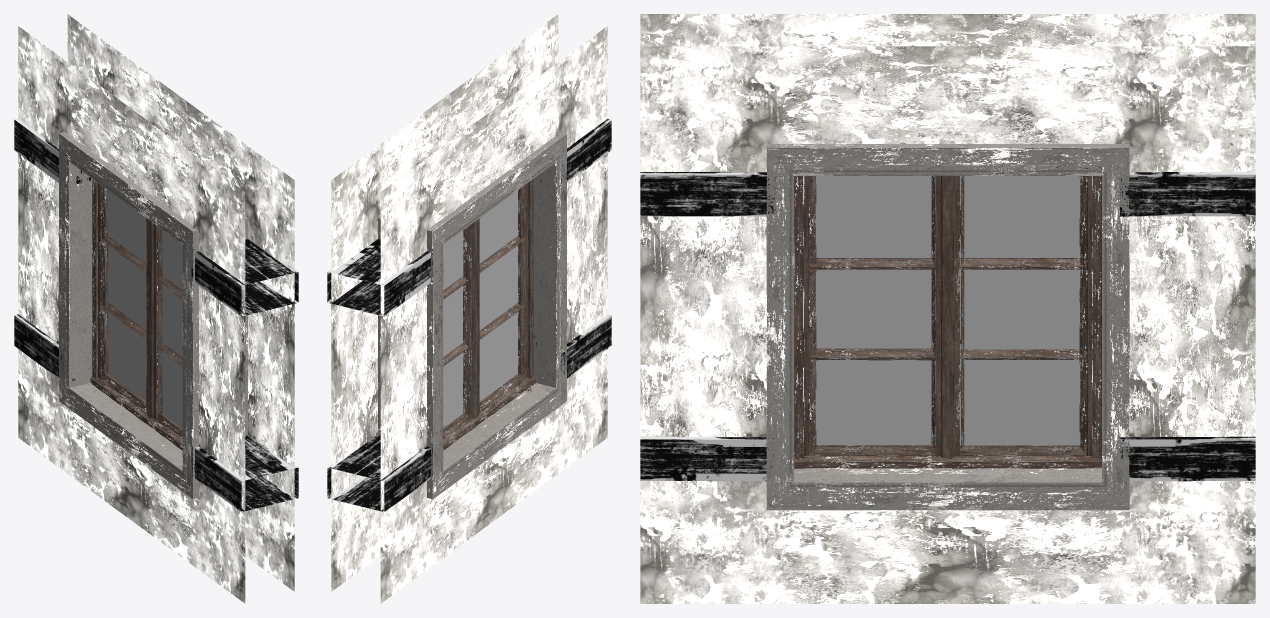
File: SM_wall_A_window_4x4_01_03.fbx
The picture shows the model from 3 angles, left to right: view 1: azimuth 30°, elevation 25°; view 2: azimuth 150°, elevation 25°; view 3: azimuth 270°, elevation 25°; orthographic projection. The views are drawn at different scales.
Parts seen in each view (by area): view 1: SM_wall_A_window_4x4_01_03_LOD0; view 2: SM_wall_A_window_4x4_01_03_LOD0; view 3: SM_wall_A_window_4x4_01_03_LOD0.
Boxes of the visible parts, box(x1,y1,x2,y2) form: SM_wall_A_window_4x4_01_03_LOD0: box(14, 14, 298, 603); SM_wall_A_window_4x4_01_03_LOD0: box(327, 14, 611, 603); SM_wall_A_window_4x4_01_03_LOD0: box(640, 14, 1255, 603).
Size of the model in its own units: 62.17 by 400 by 400.
Materials: 6 (5 with a texture image).
